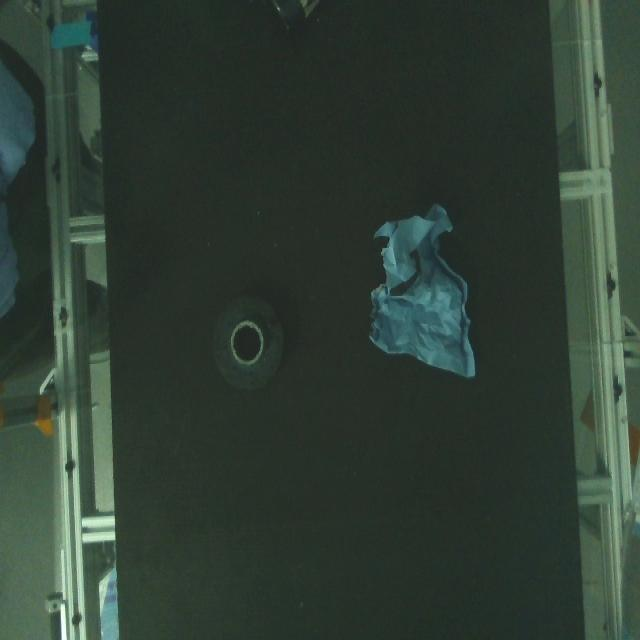non-paper: (208, 289, 288, 394), (262, 0, 335, 41)
paper: (367, 200, 479, 385)
